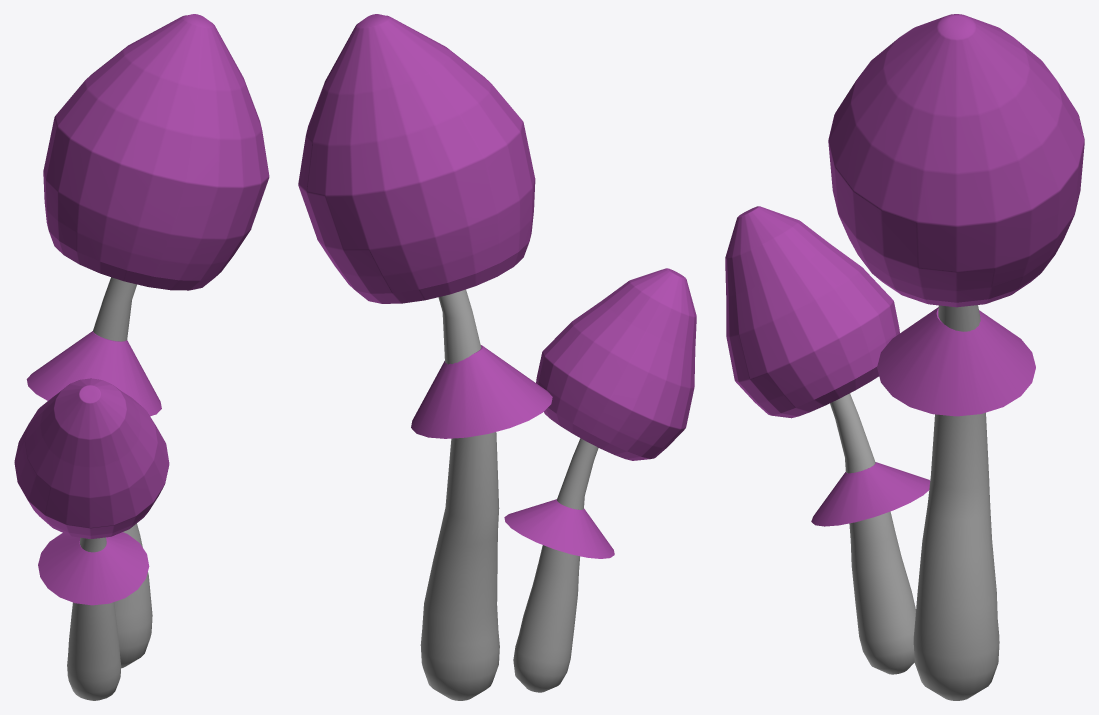
Rendered from mushroom group.fbx.
3 renders of one model, left to right at view 1: azimuth 30°, elevation 25°; view 2: azimuth 150°, elevation 25°; view 3: azimuth 270°, elevation 25°, orthographic. The views are drawn at different scales.
Parts seen in each view (by area): view 1: mushroom_group; view 2: mushroom_group; view 3: mushroom_group.
Boxes of the visible parts, x1,y1,x2,y2 form: mushroom_group: (14,14,269,700); mushroom_group: (298,14,696,700); mushroom_group: (725,14,1084,700).
Size of the model in its own units: 0.2882 by 0.271 by 0.6038.
